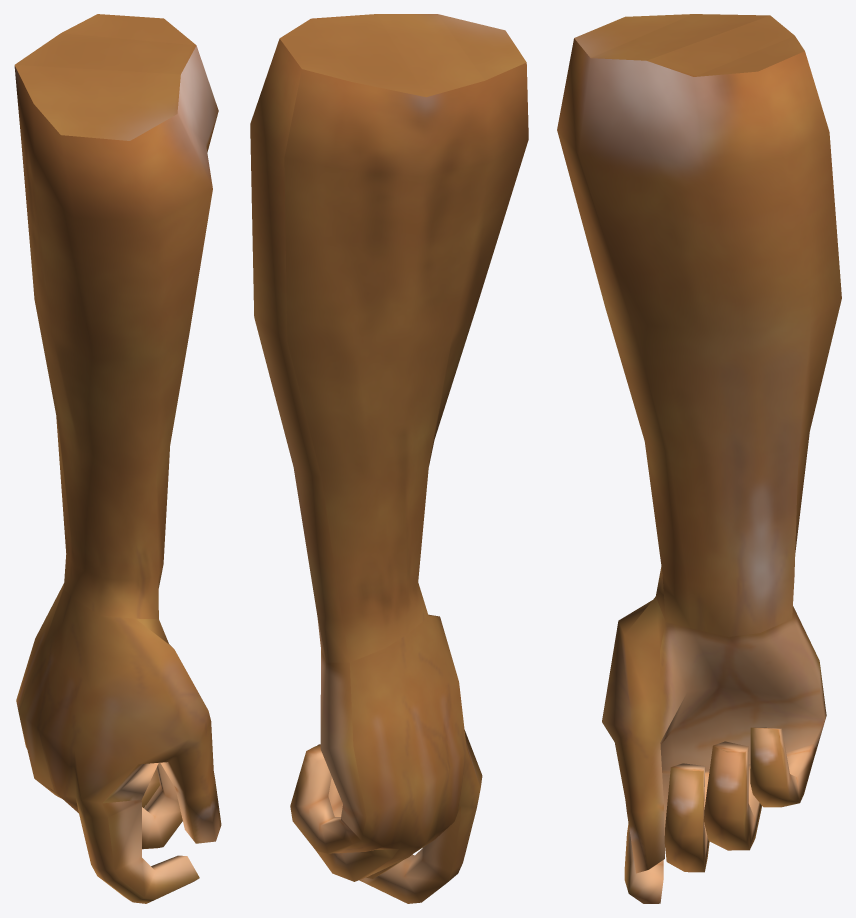
The model's file is arm_and_hand_gun.obj.
The picture shows the model from 3 angles, left to right: view 1: azimuth 30°, elevation 25°; view 2: azimuth 150°, elevation 25°; view 3: azimuth 270°, elevation 25°; orthographic projection. The views are drawn at different scales.
Visible parts, largest first — view 1: Arm_Cube; view 2: Arm_Cube; view 3: Arm_Cube.
Part boxes in pixels (left/top/right/bottom): Arm_Cube: left=14, top=14, right=221, bottom=903; Arm_Cube: left=250, top=14, right=528, bottom=903; Arm_Cube: left=557, top=14, right=841, bottom=903.
Bounding box in the file's own units: 0.1062 × 0.4265 × 0.1286.
Materials: 1 (1 with a texture image).
